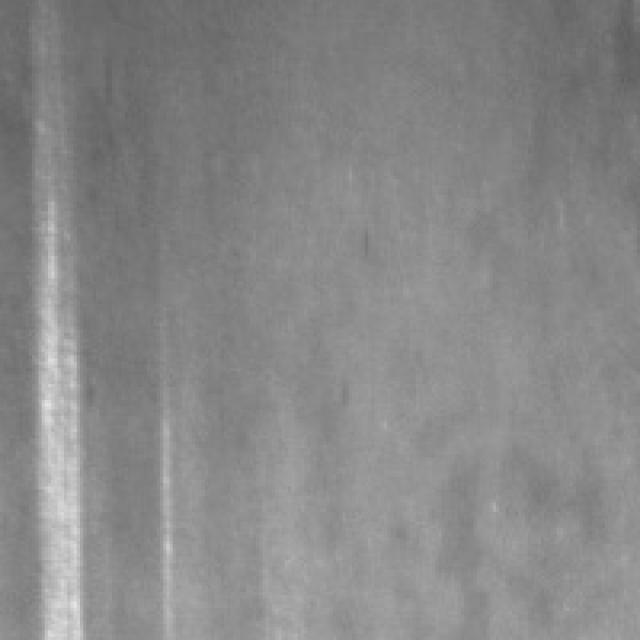scratches: (32, 163, 99, 634), (150, 358, 189, 630)
